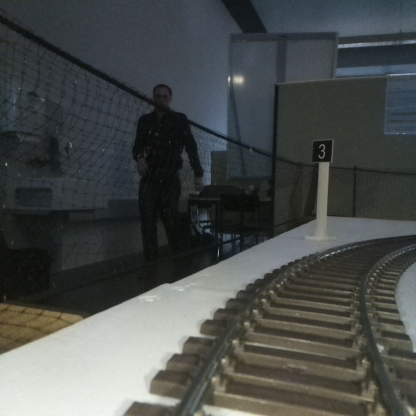black-info-3: (312, 140, 331, 238)
